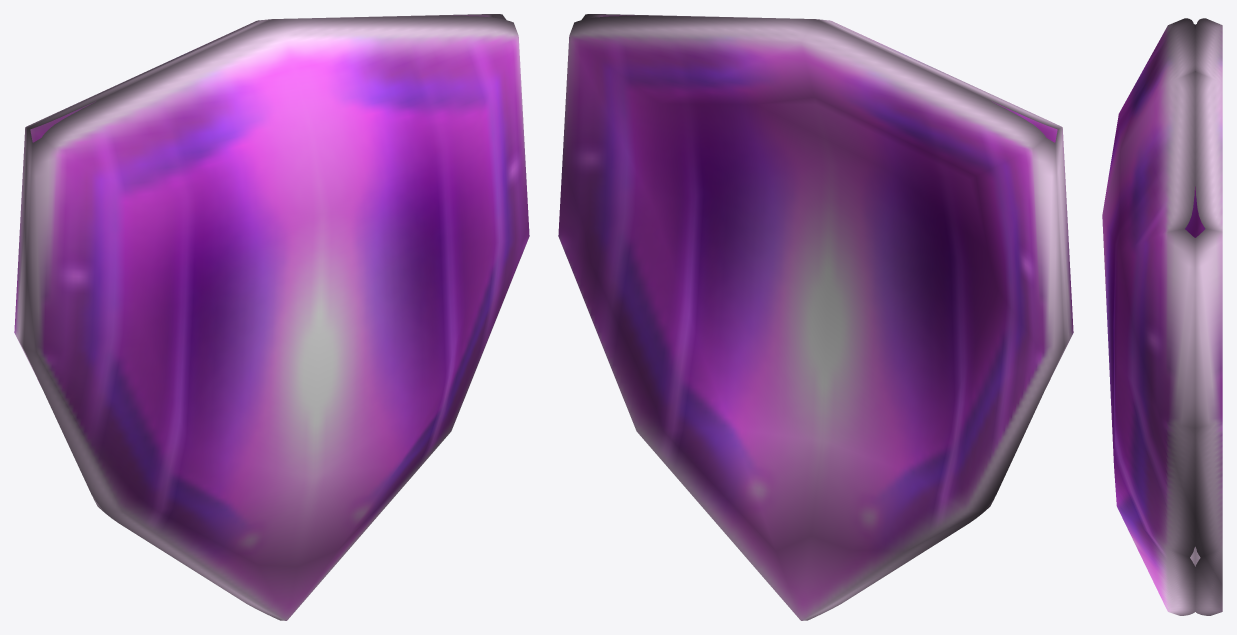
Rendered from dun01.FBX.
3 views of the same model, side by side, from view 1: azimuth 30°, elevation 25°; view 2: azimuth 150°, elevation 25°; view 3: azimuth 270°, elevation 25° (orthographic). The views are drawn at different scales.
Parts seen in each view (by area): view 1: dun01; view 2: dun01; view 3: dun01.
Part boxes in pixels (x1,y1,x2,y2): dun01: (14, 14, 529, 620); dun01: (558, 14, 1073, 620); dun01: (1102, 18, 1222, 615).
Size of the model in its own units: 0.5346 by 0.6178 by 0.1227.
